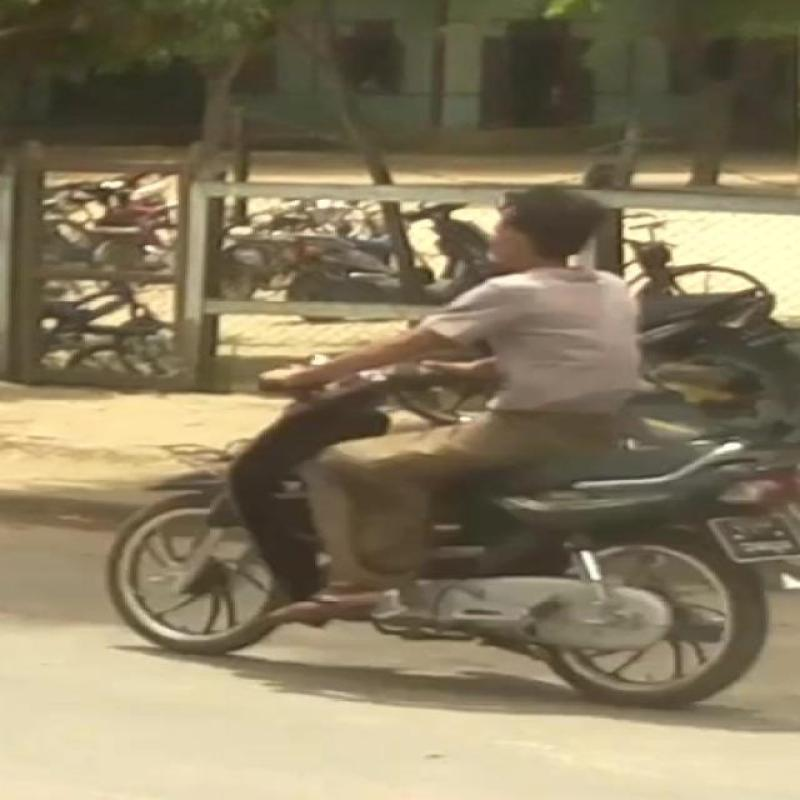nohelmet: (451, 150, 620, 288)
